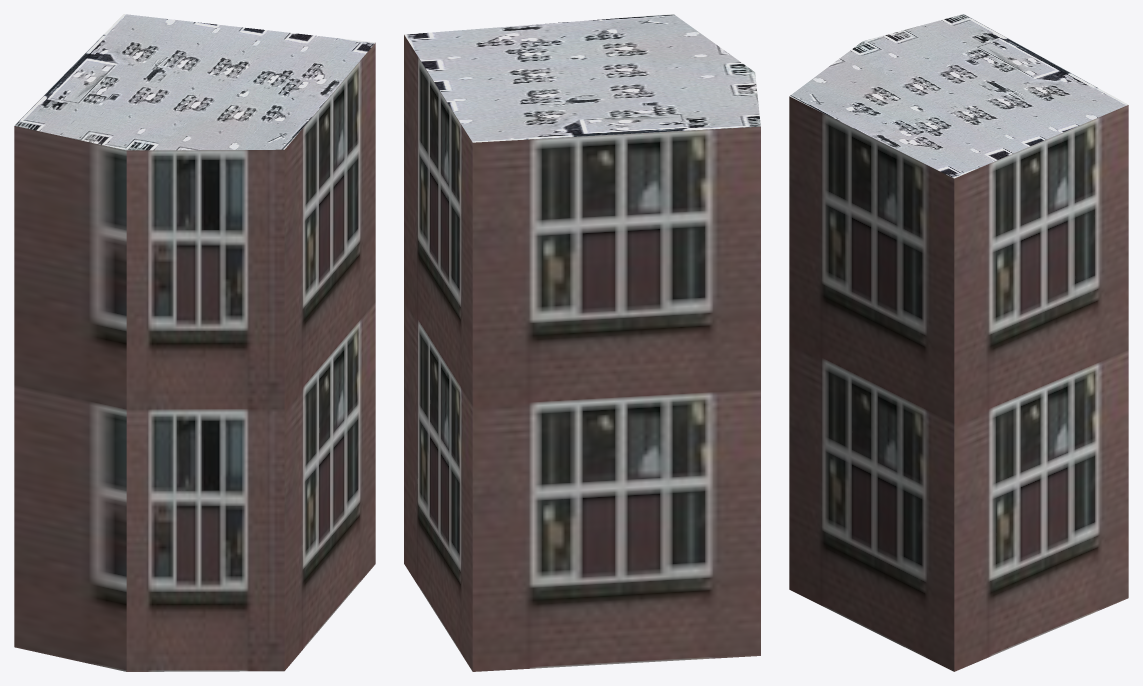
File: ResTex__1449.fbx
3 renders of one model, left to right at view 1: azimuth 30°, elevation 25°; view 2: azimuth 150°, elevation 25°; view 3: azimuth 270°, elevation 25°, orthographic. The views are drawn at different scales.
Visible parts, largest first — view 1: CityEngineMaterial_12_m, CityEngineMaterial_m; view 2: CityEngineMaterial_12_m, CityEngineMaterial_m; view 3: CityEngineMaterial_12_m, CityEngineMaterial_m.
Boxes of the visible parts, x1,y1,x2,y2 form: CityEngineMaterial_12_m: (14, 43, 375, 671); CityEngineMaterial_m: (14, 14, 375, 150); CityEngineMaterial_12_m: (404, 35, 760, 671); CityEngineMaterial_m: (404, 14, 760, 142); CityEngineMaterial_12_m: (789, 96, 1128, 671); CityEngineMaterial_m: (789, 14, 1128, 178).
Size of the model in its own units: 4.29 by 6 by 3.74.
Materials: 2 (2 with a texture image).
